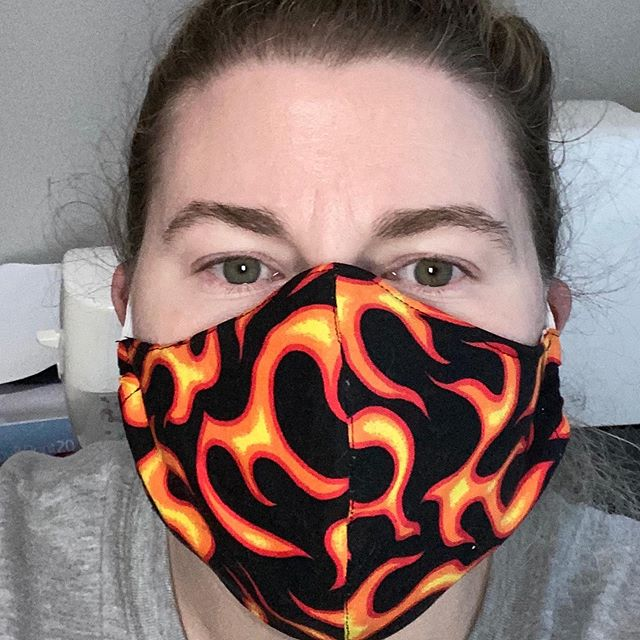homemade: (85, 302, 589, 637)
